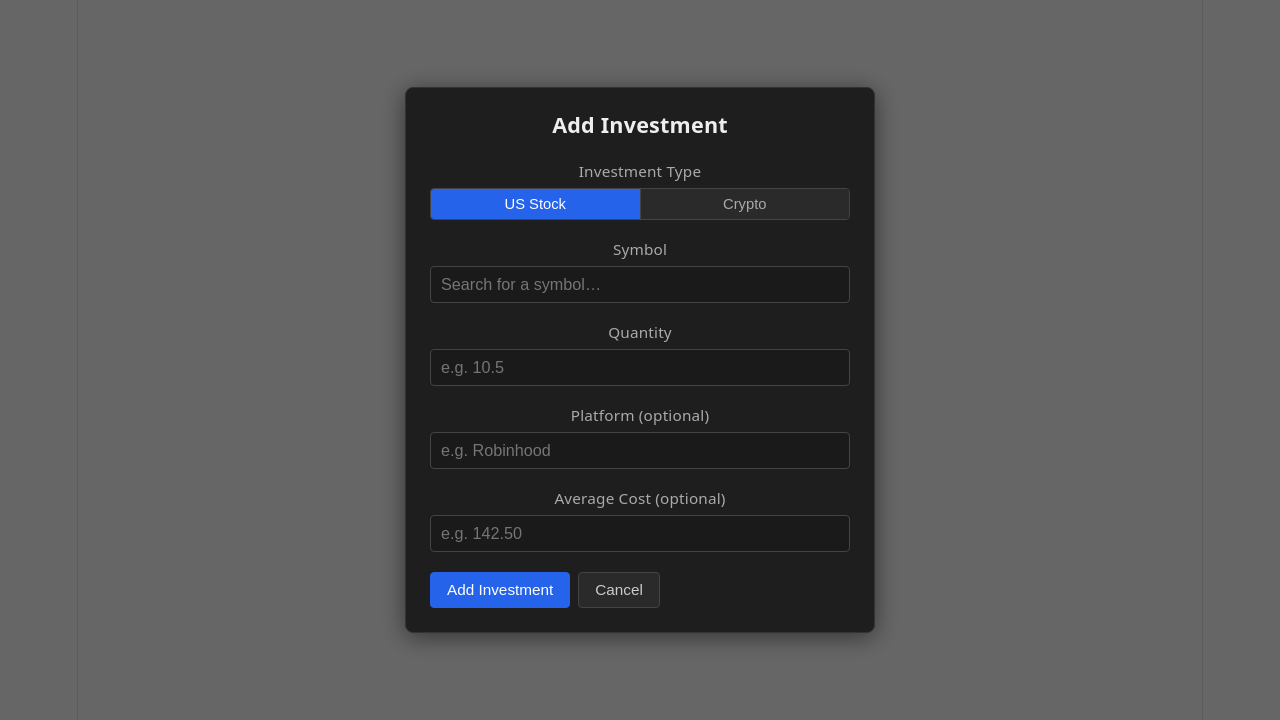
Test: AddStockForm › Validation error display (Req 8.3) › shows error when quantity is below minimum
Step 1. Type "AAPL" into the field labelled "Symbol" → (640, 284), box [430, 266, 850, 303]
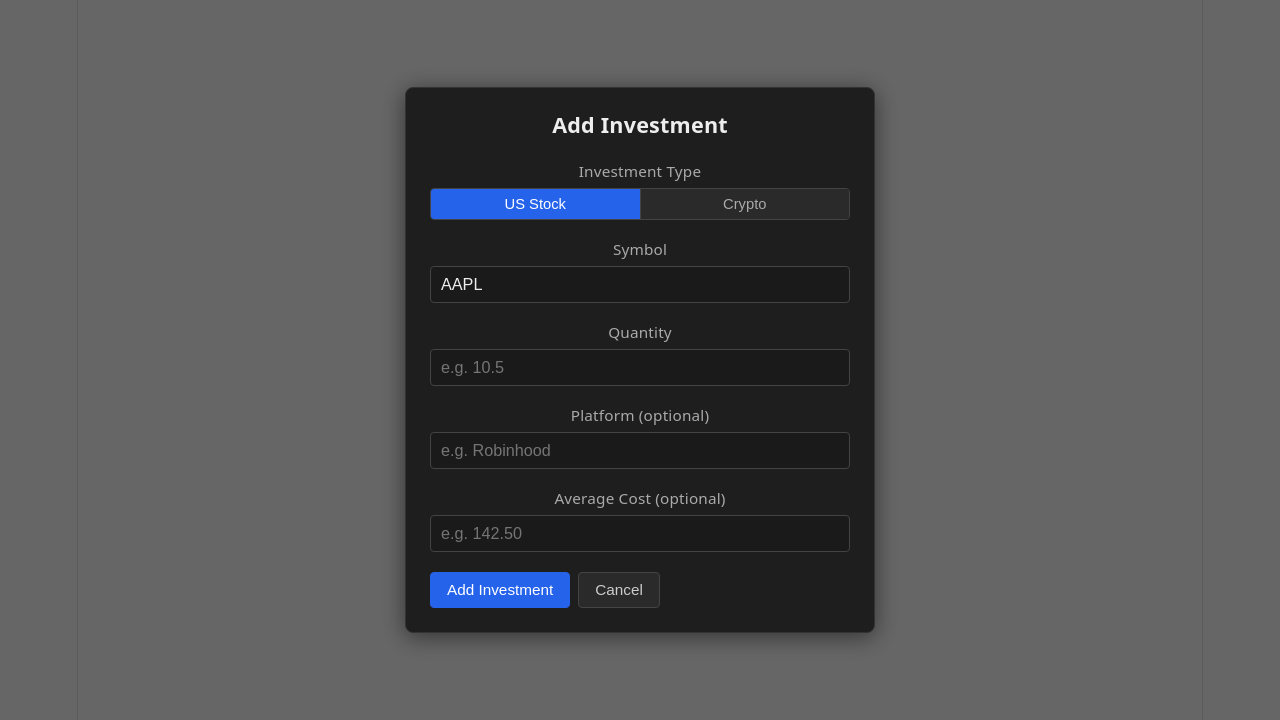
Step 2. Type "0" into the number field labelled "Quantity" → (640, 368), box [430, 349, 850, 386]
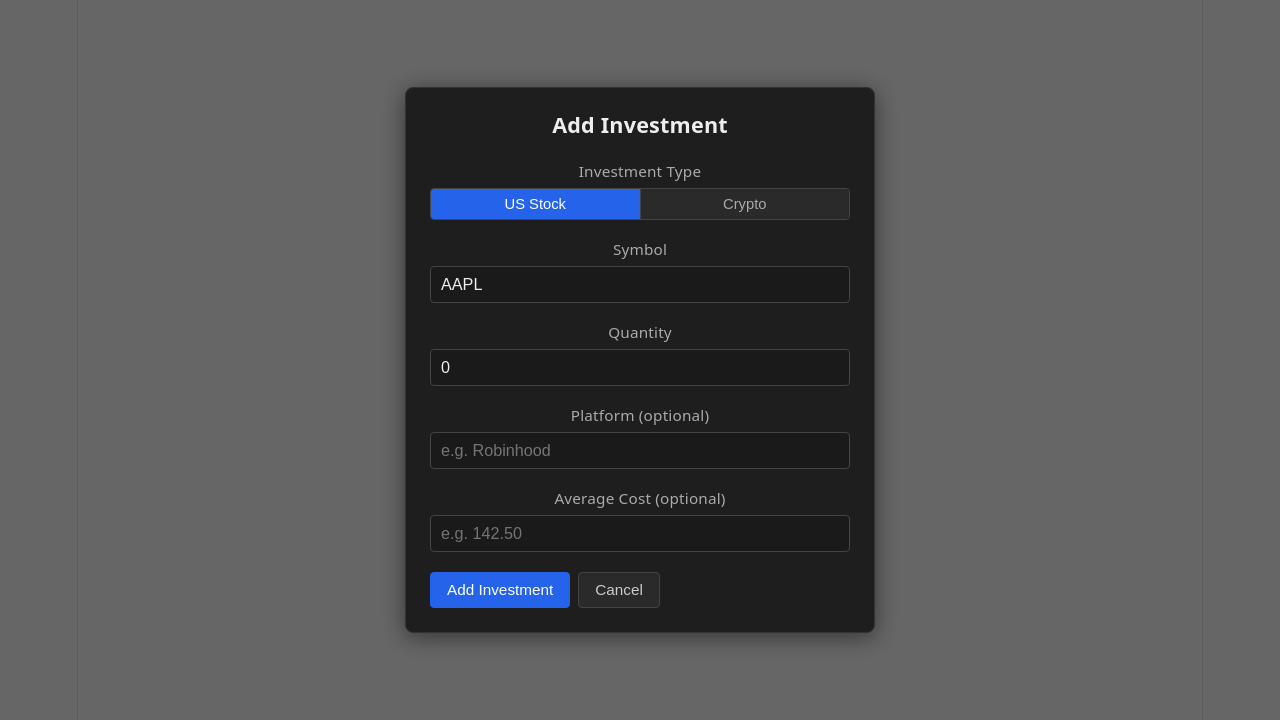
Step 3. Click the button "Add Investment" → (500, 590), box [430, 572, 570, 608]
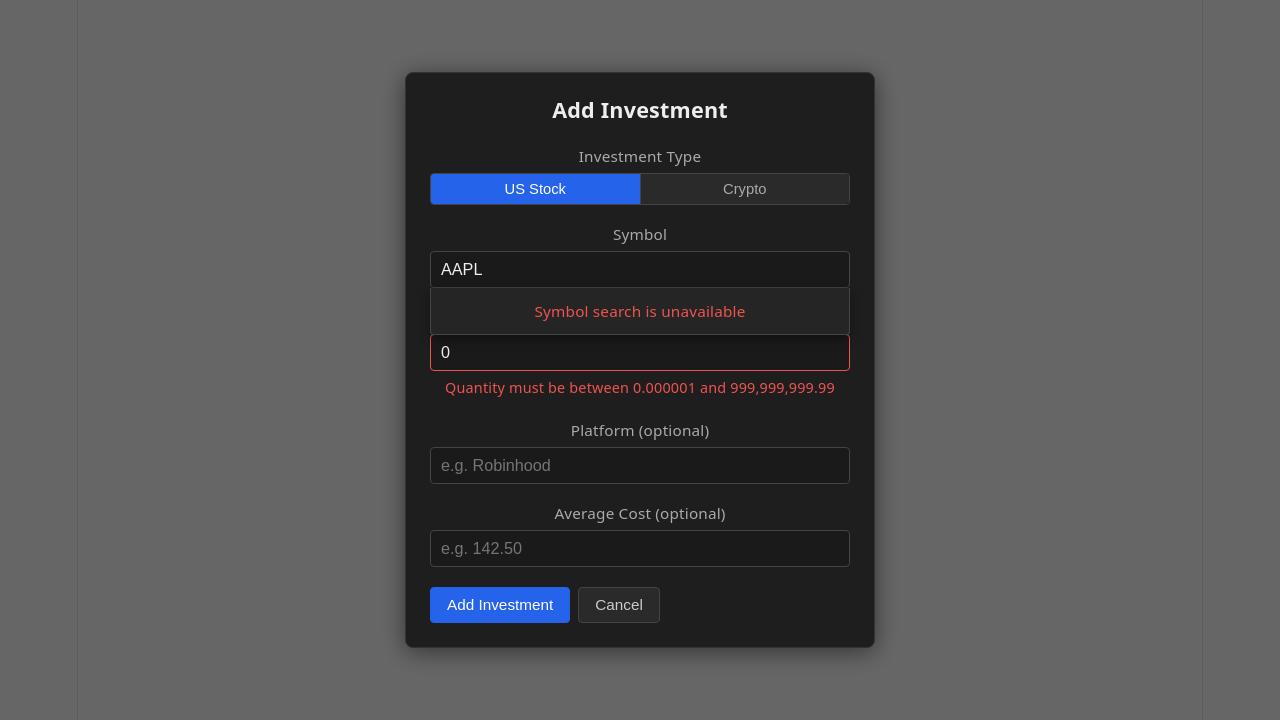
Check: the text "Quantity must be between 0.000001 and 999,999,999.99" is shown, box [430, 375, 850, 401]
